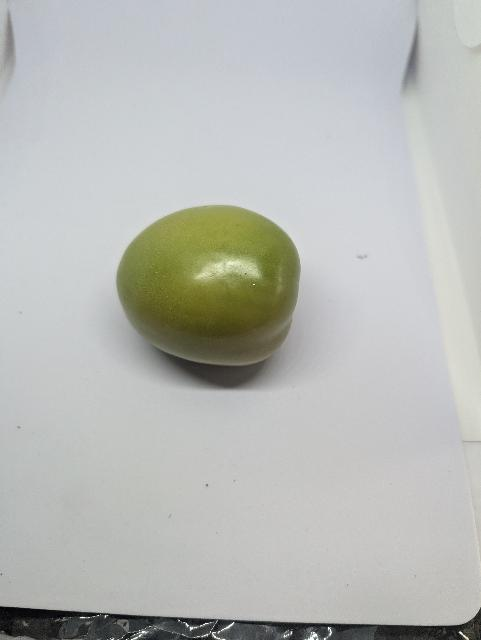green: (115, 203, 304, 367)
